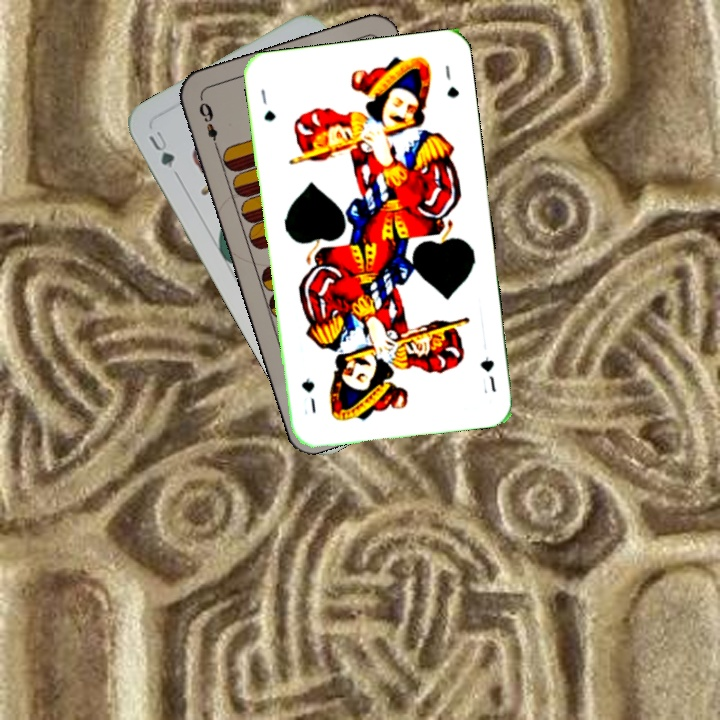E9: (194, 98, 222, 153)
GU: (144, 126, 177, 171), (476, 353, 499, 396), (256, 85, 278, 124)
